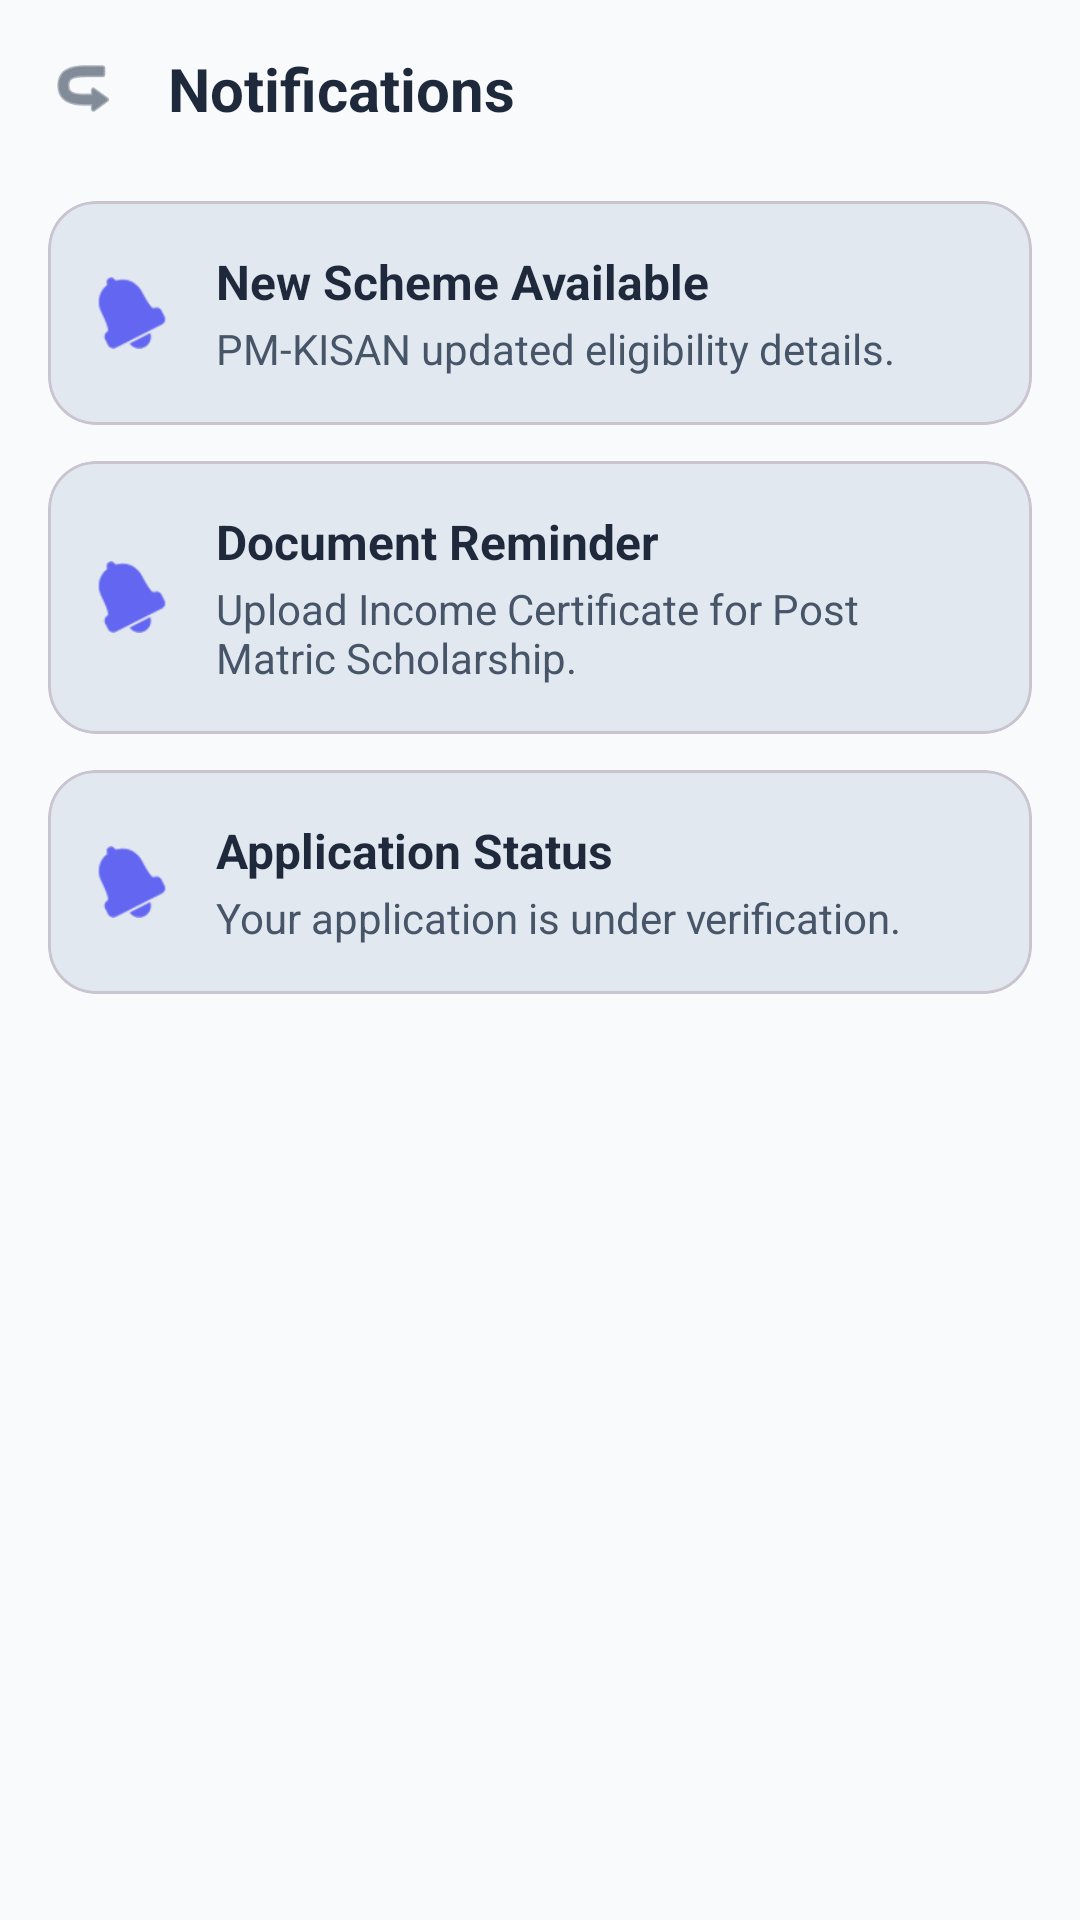

Icons on this 1080 x 1920 Android screen, each with its box as BBox(x1, y1, x2, y2):
popup reminder: BBox(98, 277, 166, 349), BBox(98, 561, 166, 633), BBox(98, 846, 166, 918)
